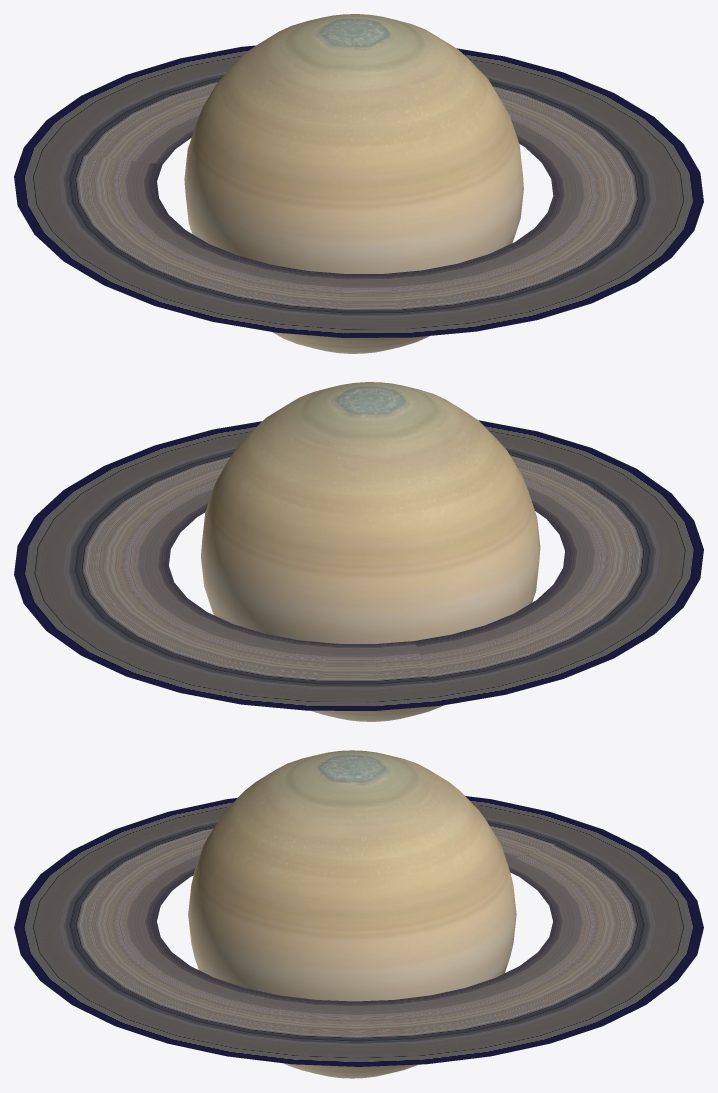
The model's file is saturn.glb.
The picture shows the model from 3 angles, top to bottom: view 1: azimuth 30°, elevation 25°; view 2: azimuth 150°, elevation 25°; view 3: azimuth 270°, elevation 25°; orthographic projection. The views are drawn at different scales.
Visible parts, largest first — view 1: Material_003-material, Material_002-material; view 2: Material_003-material, Material_002-material; view 3: Material_003-material, Material_002-material.
Part boxes in pixels (left/top/right/bottom): Material_003-material: left=14, top=45, right=703, bottom=337; Material_002-material: left=184, top=14, right=523, bottom=353; Material_003-material: left=14, top=420, right=703, bottom=710; Material_002-material: left=201, top=382, right=540, bottom=721; Material_003-material: left=14, top=796, right=703, bottom=1066; Material_002-material: left=188, top=750, right=516, bottom=1078.
Bounding box in the file's own units: 9.64 × 4.81 × 10.09.
2 materials, 2 textured.
